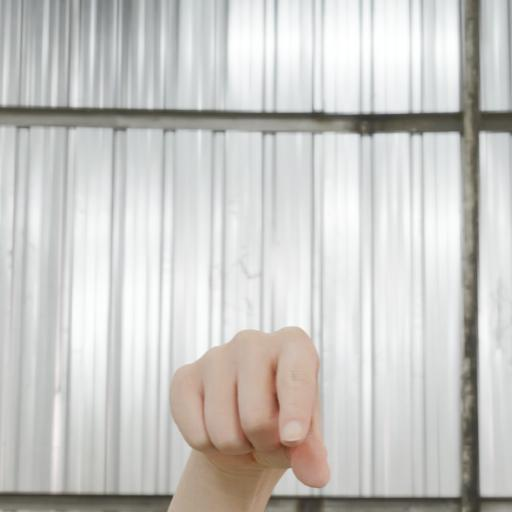Q: (141, 305, 361, 505)
